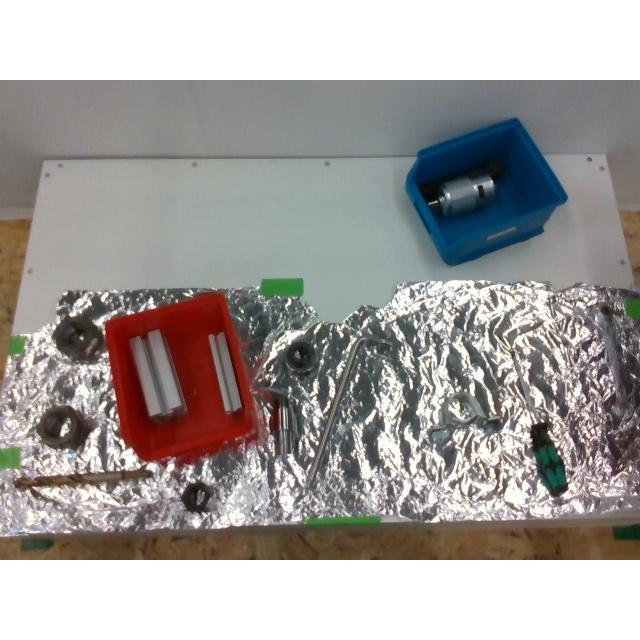AllenKey: (305, 336, 389, 488)
Axis2: (268, 393, 296, 455)
Bearing2: (284, 337, 318, 375)
Drill: (12, 467, 152, 489)
F20_20_G: (209, 332, 241, 412)
Housing: (428, 392, 504, 468)
M20: (182, 481, 214, 513)
M30: (36, 405, 96, 449), (52, 315, 104, 363)
Motor2: (428, 176, 496, 214)
S40_40_G: (130, 328, 187, 416)
Screwdriver: (506, 346, 566, 496)
Wrench: (600, 304, 636, 418)
container_box_blue: (406, 118, 566, 266)
container_box_red: (105, 292, 258, 460)
